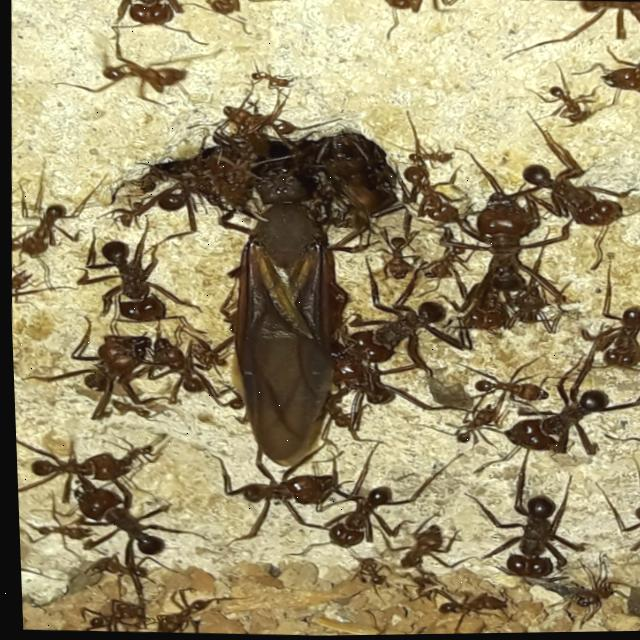Alive-Female-Alate: (192, 151, 379, 472)
